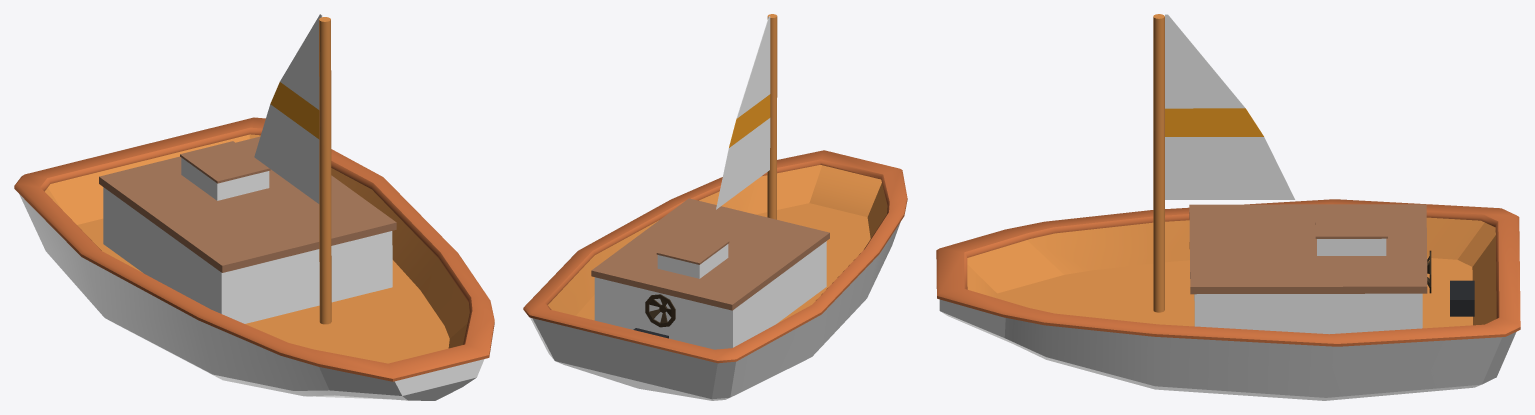
Rendered from Boat_2.fbx.
3 renders of one model, left to right at view 1: azimuth 30°, elevation 25°; view 2: azimuth 150°, elevation 25°; view 3: azimuth 270°, elevation 25°, orthographic. The views are drawn at different scales.
Visible parts, largest first — view 1: Boat_2; view 2: Boat_2; view 3: Boat_2.
Boxes of the visible parts, x1=… form: Boat_2: x1=14, y1=14, x2=494, y2=400; Boat_2: x1=523, y1=14, x2=907, y2=400; Boat_2: x1=936, y1=14, x2=1520, y2=400.
Bounding box in the file's own units: 615 × 682 × 1054.
